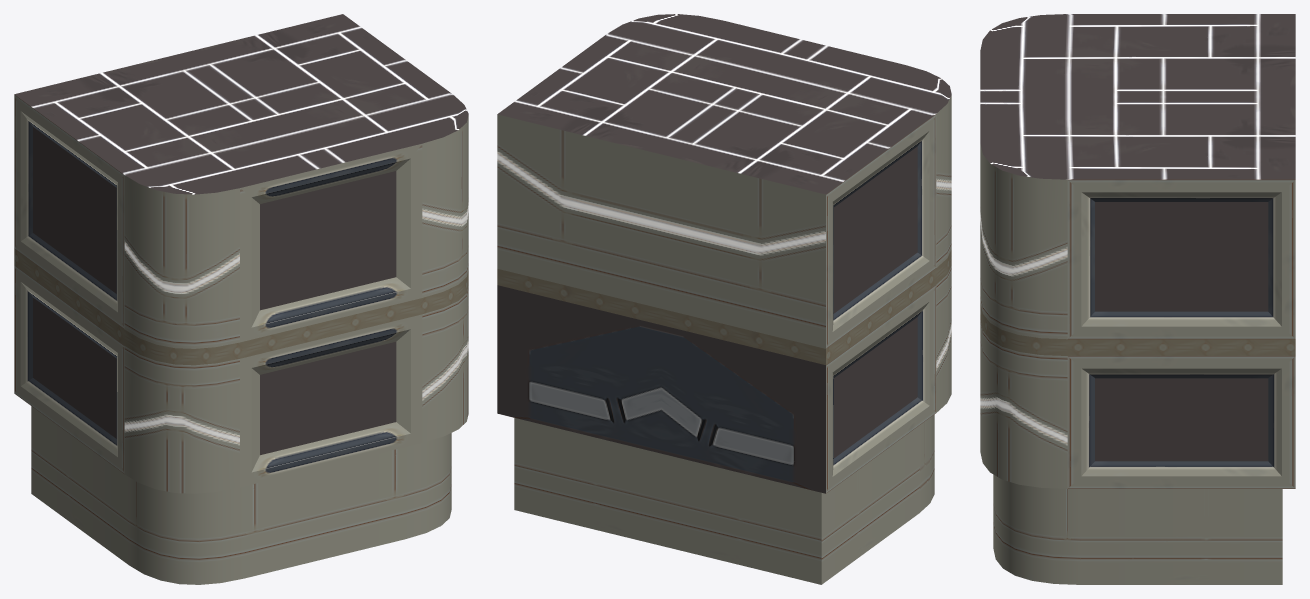
Rendered from KF_SM_XBuilding012.fbx.
The picture shows the model from 3 angles, left to right: view 1: azimuth 30°, elevation 25°; view 2: azimuth 150°, elevation 25°; view 3: azimuth 270°, elevation 25°; orthographic projection. The views are drawn at different scales.
Visible parts, largest first — view 1: KF_SM_XBuilding12; view 2: KF_SM_XBuilding12; view 3: KF_SM_XBuilding12.
Boxes of the visible parts, <box> form: KF_SM_XBuilding12: <box>14,14,468,584</box>; KF_SM_XBuilding12: <box>497,14,951,584</box>; KF_SM_XBuilding12: <box>980,14,1295,584</box>.
Bounding box in the file's own units: 2946 × 3403 × 2368.
